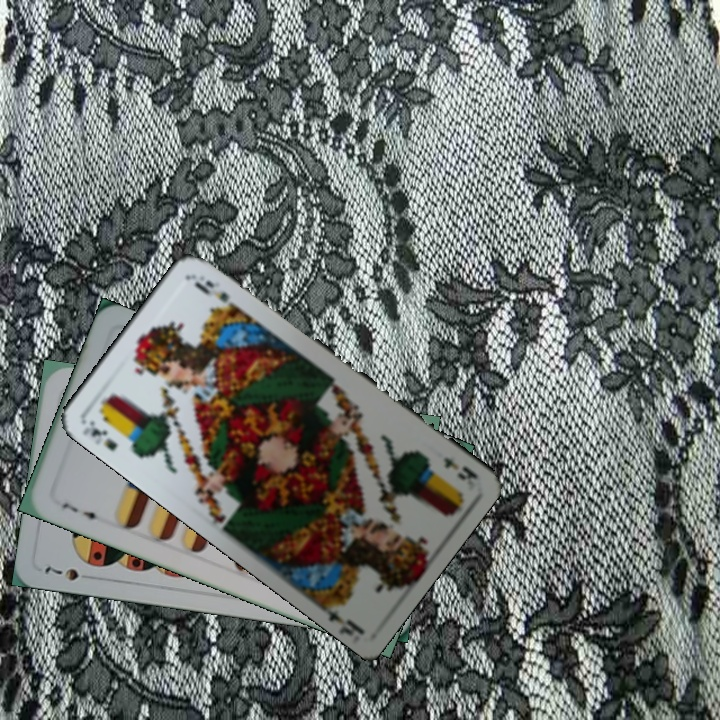E7: (58, 498, 104, 525)
EK: (78, 416, 120, 454), (439, 452, 481, 483)
S7: (40, 562, 97, 584)
